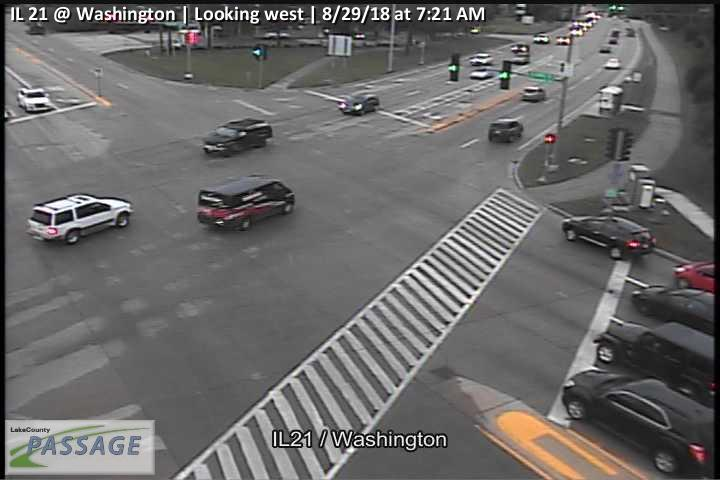SUV: (561, 365, 716, 476), (592, 321, 720, 404), (196, 174, 296, 231), (26, 192, 133, 244), (561, 214, 656, 260), (203, 117, 273, 157), (487, 118, 524, 143), (15, 86, 50, 111)
Sedan: (633, 284, 720, 332), (672, 260, 720, 292), (339, 93, 380, 115), (520, 86, 545, 101), (469, 52, 494, 65), (470, 66, 494, 78), (604, 57, 621, 69)
